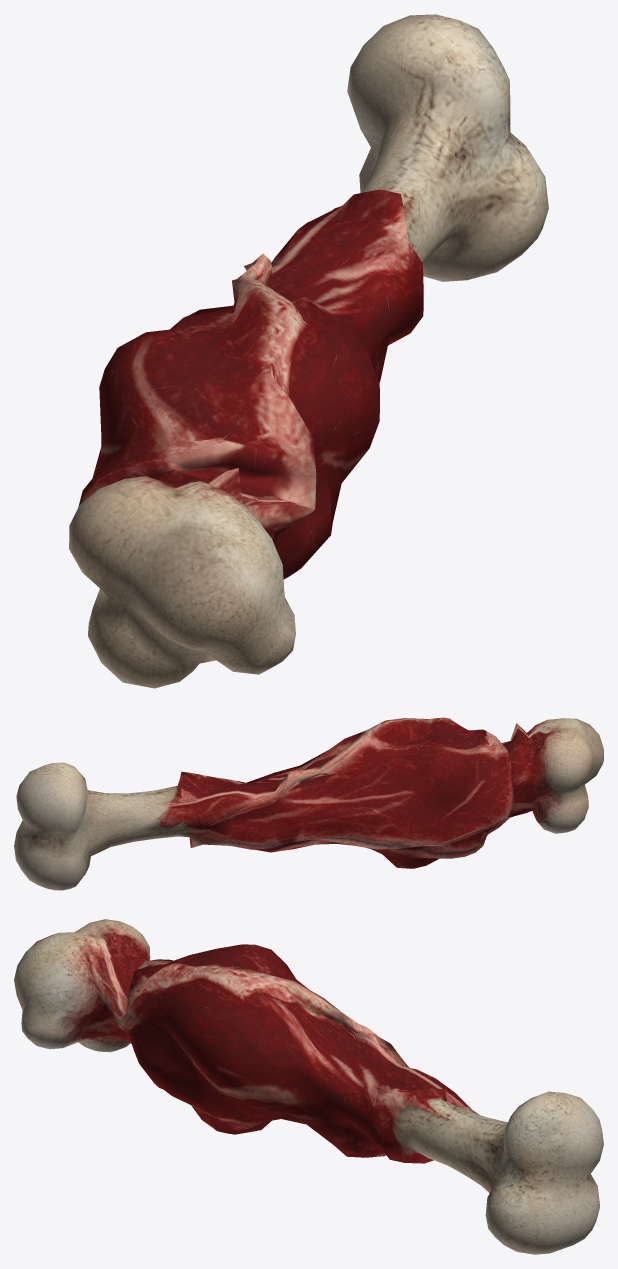
Rendered from mm8_m480_club.glb.
3 renders of one model, top to bottom at view 1: azimuth 30°, elevation 25°; view 2: azimuth 150°, elevation 25°; view 3: azimuth 270°, elevation 25°, orthographic. The views are drawn at different scales.
Visible parts, largest first — view 1: Club; view 2: Club; view 3: Club.
Boxes of the visible parts, x1,y1,x2,y2 form: Club: [69, 14, 548, 688]; Club: [14, 717, 603, 890]; Club: [14, 919, 603, 1254].
Size of the model in its own units: 0.4508 by 0.154 by 0.4672.
1 material, 1 textured.
